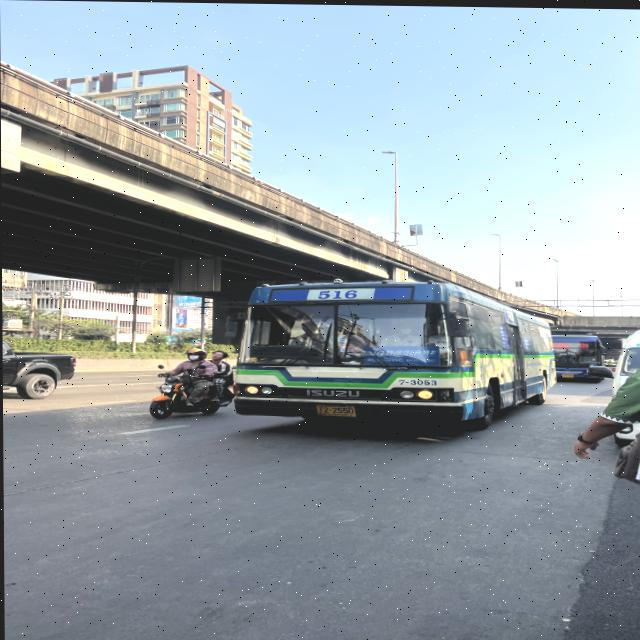BMTA-bus: (230, 280, 552, 429)
Bus-Line-Number: (305, 287, 376, 301), (576, 340, 592, 347)
Destination-Sign-Normal: (365, 343, 442, 365), (551, 340, 573, 347)
TSB-Bus: (552, 329, 612, 383)
